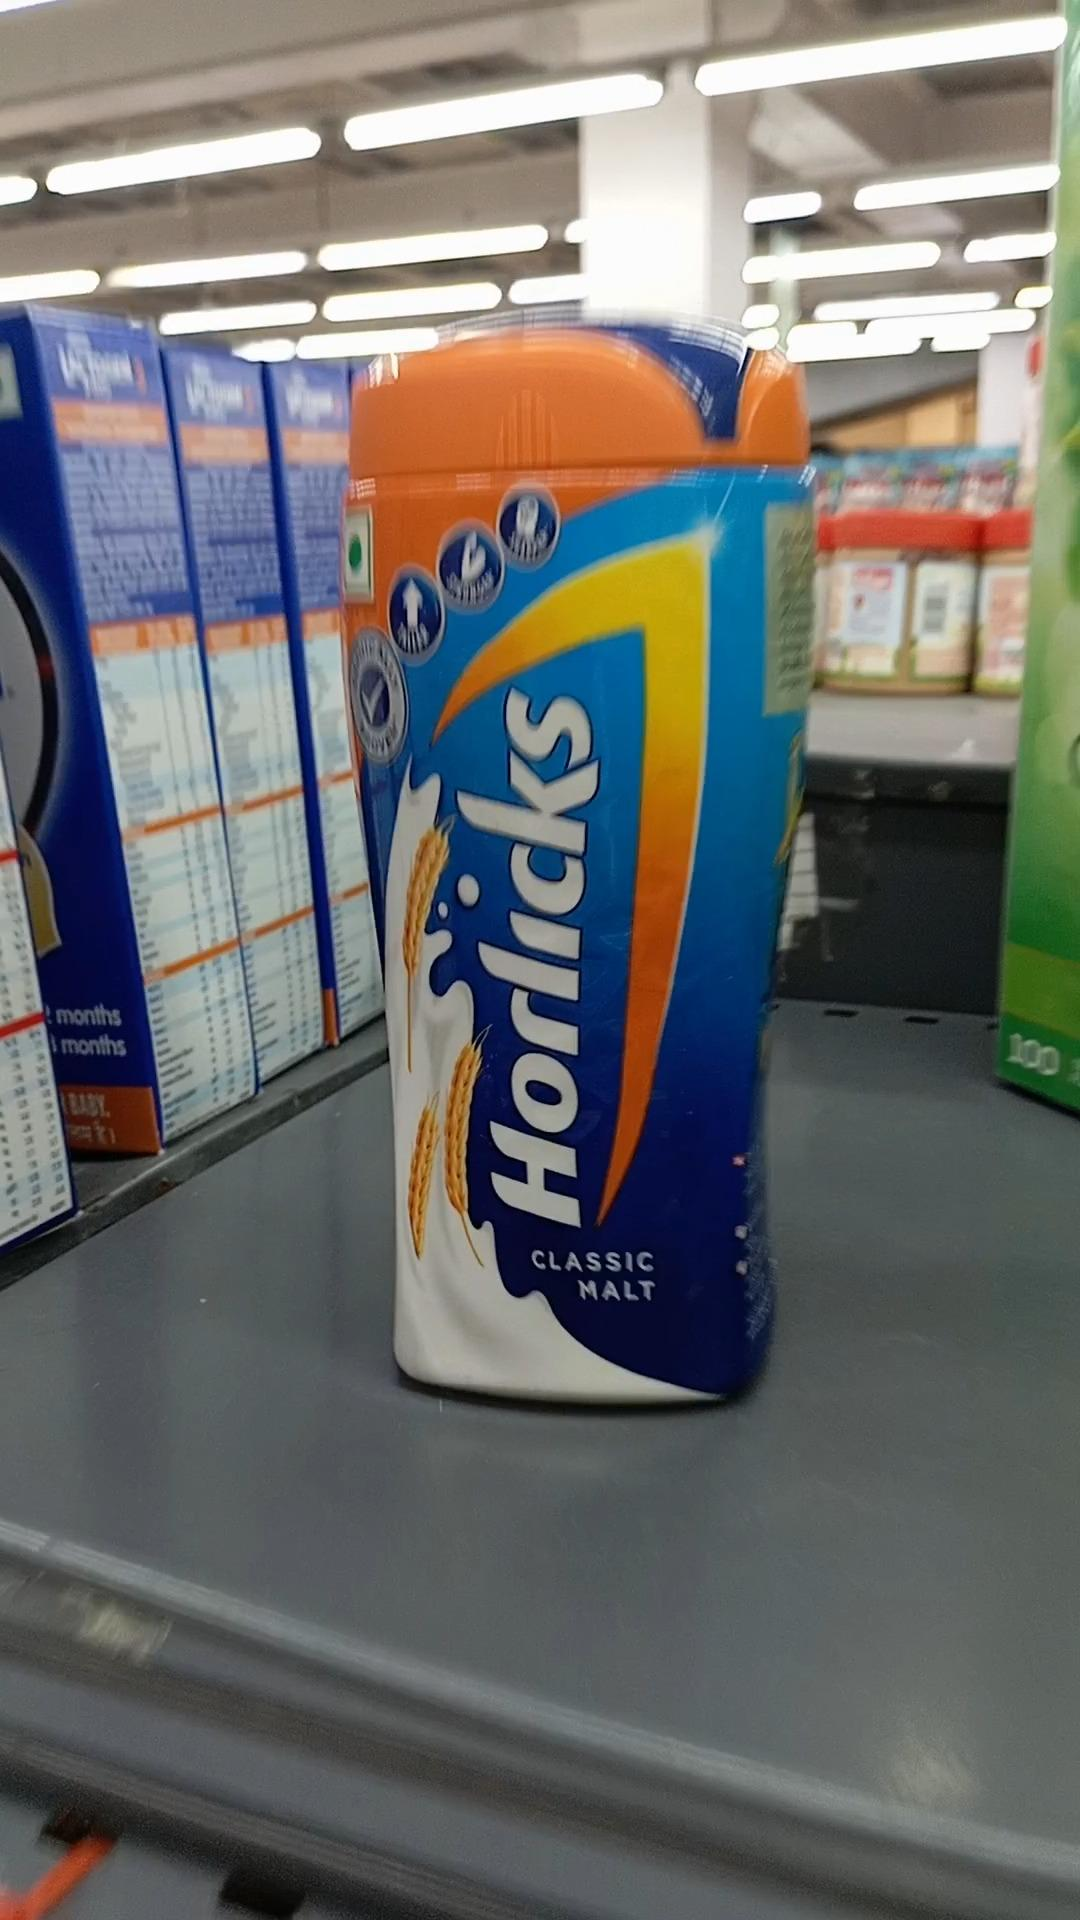HORLICK_CLASSIC_MALT_200_G_JAR: (356, 327, 756, 1423)
